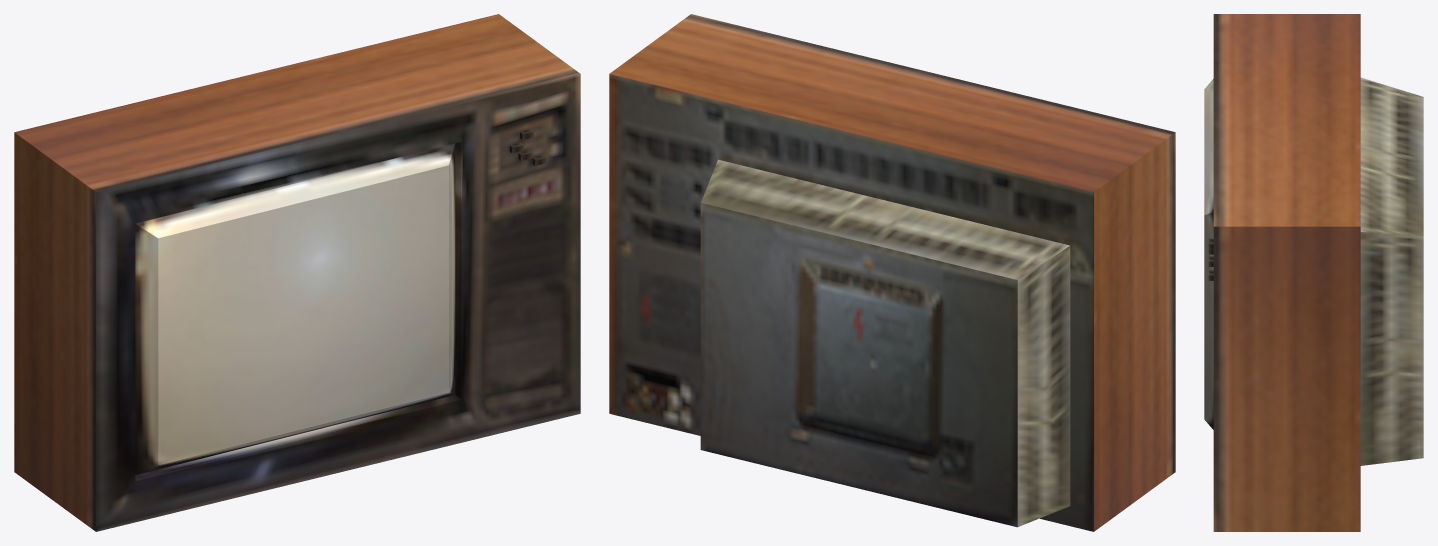
3 views of the same model, side by side, from view 1: azimuth 30°, elevation 25°; view 2: azimuth 150°, elevation 25°; view 3: azimuth 270°, elevation 25° (orthographic). The views are drawn at different scales.
Parts seen in each view (by area): view 1: TV; view 2: TV; view 3: TV.
Part boxes in pixels (bbox=[...]): TV: bbox=[14, 14, 580, 531]; TV: bbox=[609, 14, 1175, 531]; TV: bbox=[1204, 14, 1423, 531].
Size of the model in its own units: 124 by 82.88 by 54.02.
Materials: 1 (1 with a texture image).
